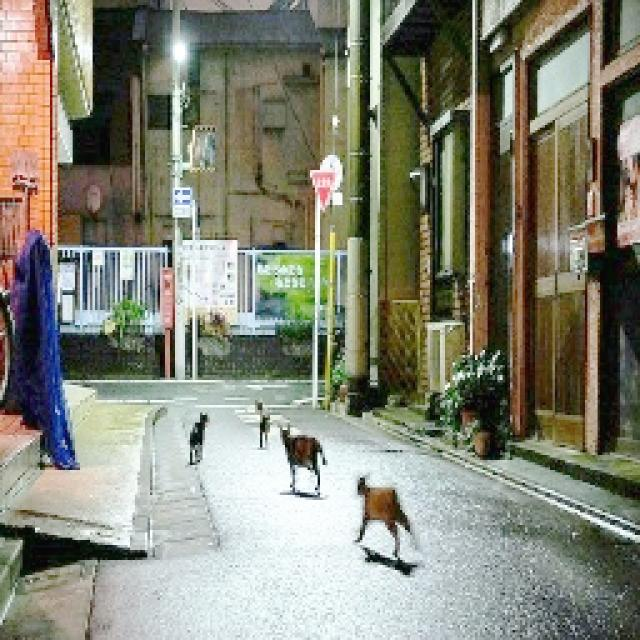cat: (344, 471, 429, 572), (274, 422, 329, 504), (180, 406, 217, 470), (246, 397, 276, 450)
